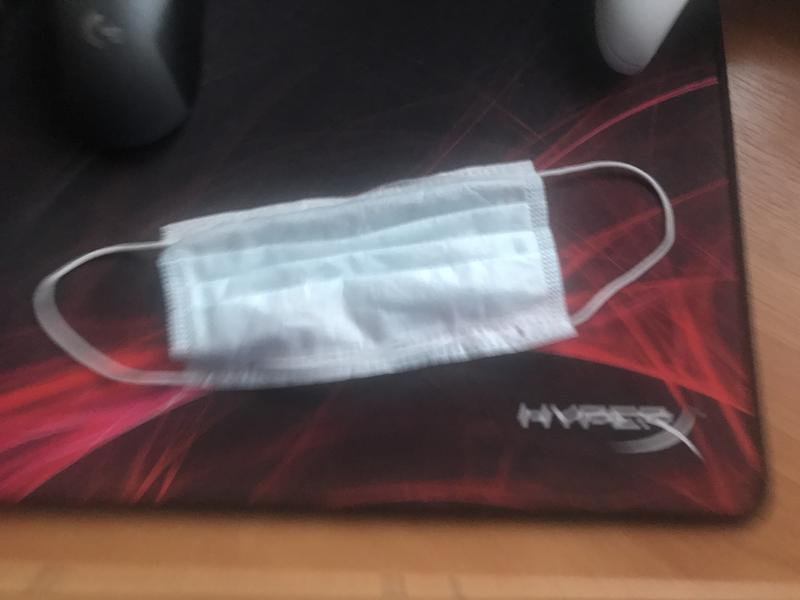medical_mask: (33, 159, 676, 390)
